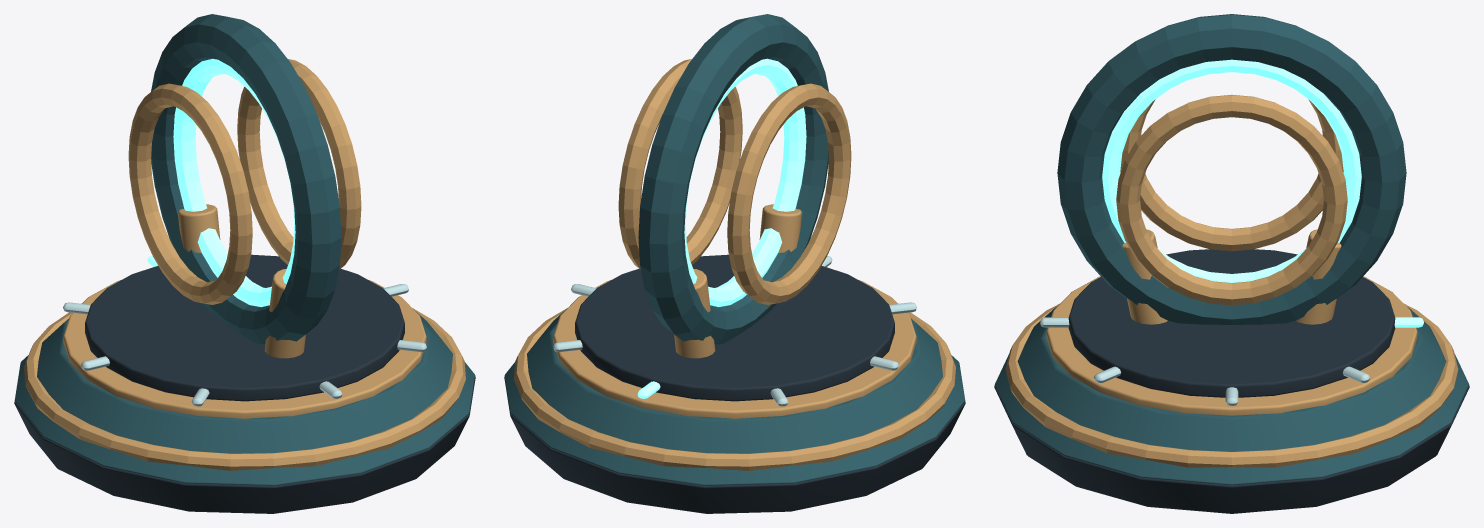
File: doppler.glb
3 views of the same model, side by side, from view 1: azimuth 30°, elevation 25°; view 2: azimuth 150°, elevation 25°; view 3: azimuth 270°, elevation 25° (orthographic). The views are drawn at different scales.
Visible parts, largest first — view 1: doppler; view 2: doppler; view 3: doppler.
Part boxes in pixels (<box>): doppler: <box>14,14,475,513</box>; doppler: <box>504,14,965,513</box>; doppler: <box>994,14,1469,513</box>.
Bounding box in the file's own units: 1.08 × 1.01 × 1.08.
